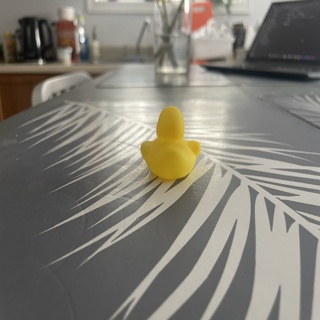duck_regular: (135, 106, 199, 179)
